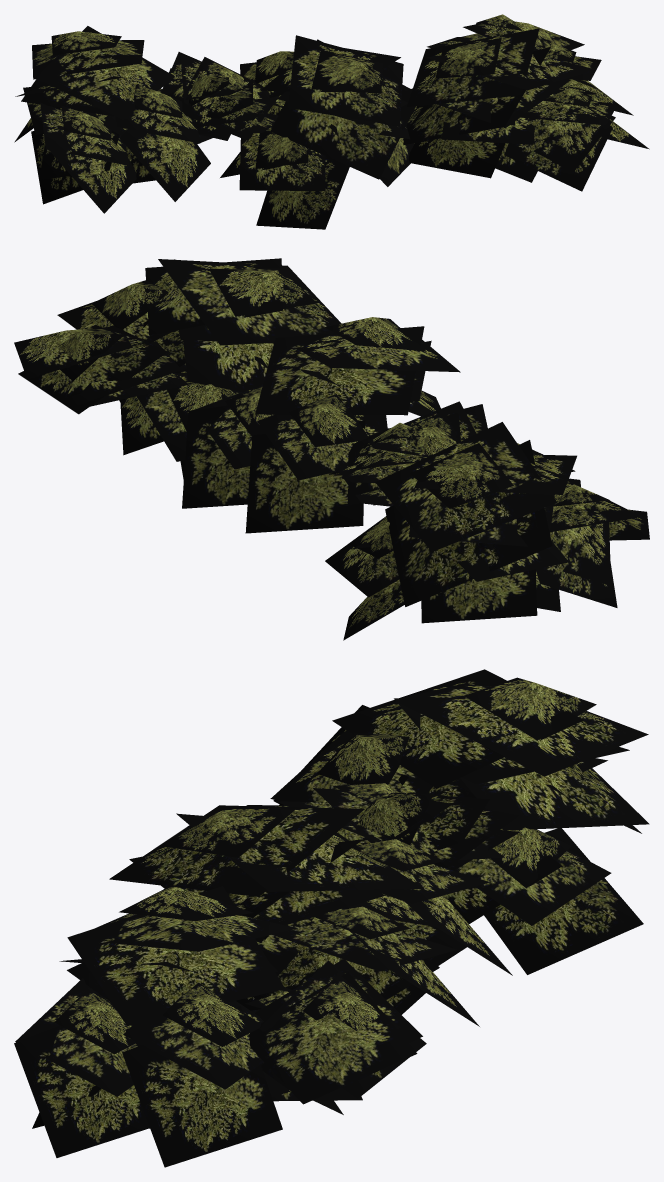
The model's file is nder47.obj.
The picture shows the model from 3 angles, top to bottom: view 1: azimuth 30°, elevation 25°; view 2: azimuth 150°, elevation 25°; view 3: azimuth 270°, elevation 25°; orthographic projection. The views are drawn at different scales.
Visible parts, largest first — view 1: nder47; view 2: nder47; view 3: nder47.
Boxes of the visible parts, x1,y1,x2,y2 form: nder47: (14,14,649,229); nder47: (14,258,649,640); nder47: (14,669,649,1167).
Size of the model in its own units: 465 by 122 by 319.
